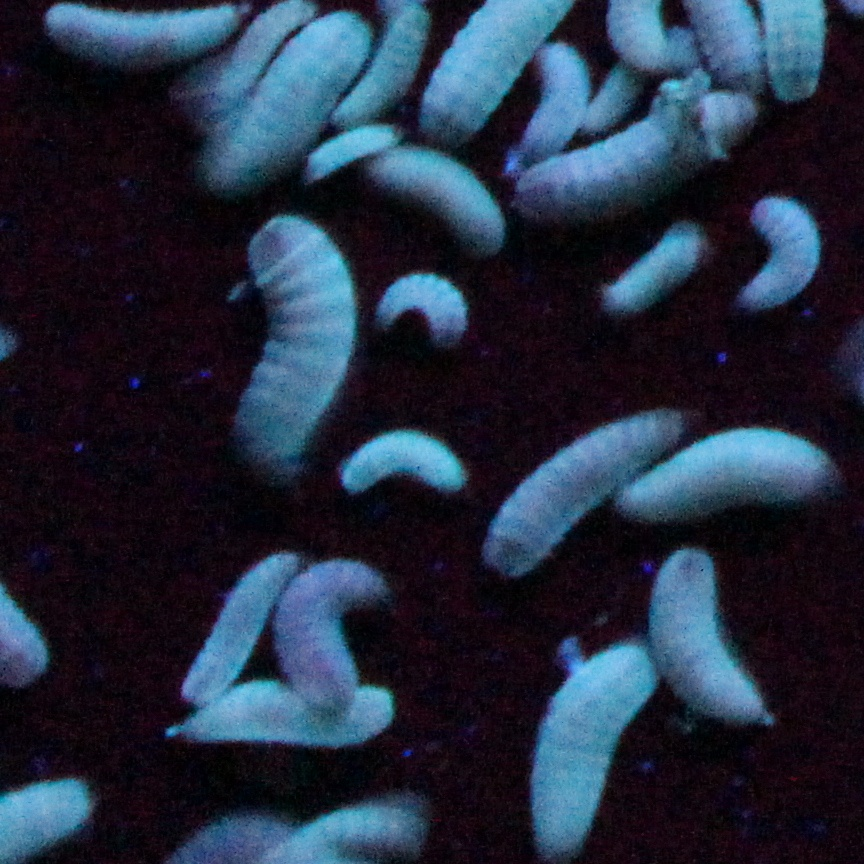larve: (488, 414, 677, 572), (251, 204, 358, 469), (519, 643, 651, 856), (525, 104, 732, 237), (222, 24, 367, 178), (622, 425, 844, 521), (648, 548, 764, 723), (174, 546, 290, 704), (161, 682, 400, 746), (367, 153, 506, 253), (196, 4, 312, 120), (290, 559, 374, 704), (332, 8, 419, 127), (742, 196, 822, 316), (339, 428, 470, 499), (606, 221, 695, 314), (377, 272, 470, 348)
